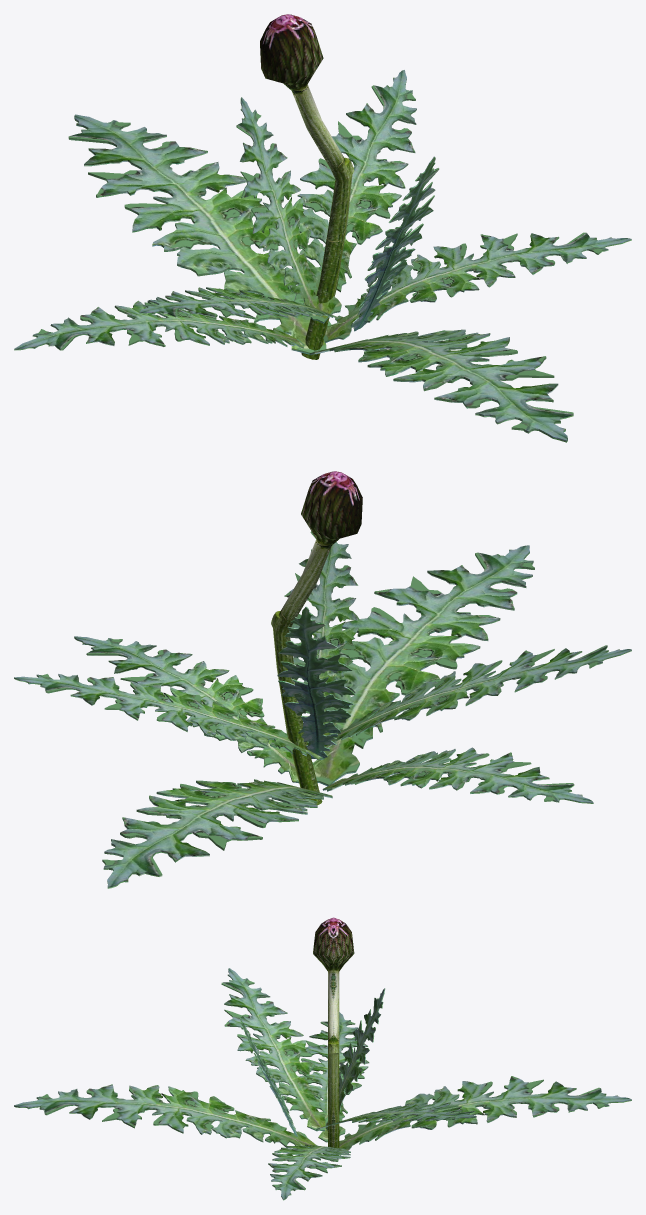
File: daji.FBX
3 views of the same model, one above another, from view 1: azimuth 30°, elevation 25°; view 2: azimuth 150°, elevation 25°; view 3: azimuth 270°, elevation 25° (orthographic). The views are drawn at different scales.
Visible parts, largest first — view 1: Line001, Line005, Line003, Cylinder001, Line002, Line004, Line006, Line008, Line007; view 2: Line005, Line001, Cylinder001, Line002, Line007, Line003, Line006, Line004, Line008; view 3: Line005, Line001, Line007, Cylinder001, Line002, Line006, Line003, Line004, Line008.
Part boxes in pixels (x1,y1,x2,y2): Line001: (68,114,331,354); Line005: (309,329,573,442); Line003: (297,70,416,323); Cylinder001: (260,14,354,359); Line002: (323,232,631,342); Line004: (236,97,318,317); Line006: (14,300,304,350); Line008: (351,156,439,331); Line007: (139,287,338,319); Line005: (313,545,534,786); Line001: (102,779,332,888); Cylinder001: (271,471,362,805); Line002: (74,636,313,783); Line007: (320,645,631,751); Line003: (14,674,324,760); Line006: (322,747,593,803); Line004: (277,606,355,758); Line008: (284,531,359,735); Line005: (14,1084,316,1147); Line001: (331,1076,631,1155); Line007: (221,968,327,1131); Cylinder001: (313,917,354,1161); Line002: (268,1144,350,1200); Line006: (298,1012,369,1142); Line003: (316,1102,476,1129); Line004: (326,988,385,1130); Line008: (239,1016,297,1136).
Bounding box in the file's own units: 36.72 × 21.27 × 51.05.
1 material, 1 textured.
